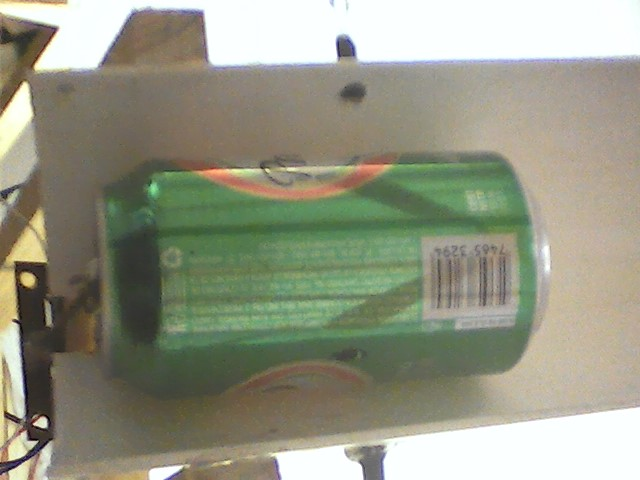lata: (88, 149, 563, 403)
